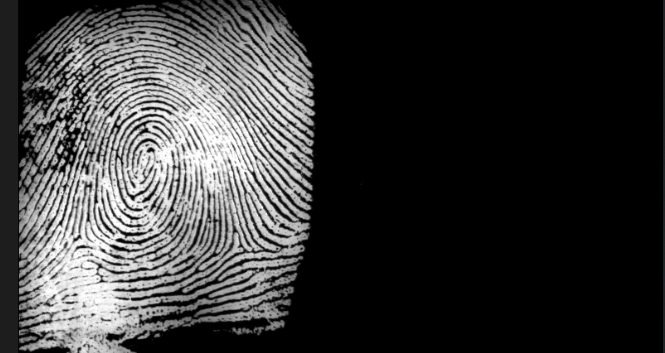deltas: (56, 222, 107, 269), (215, 218, 257, 263)
nucleo: (124, 136, 165, 185)
